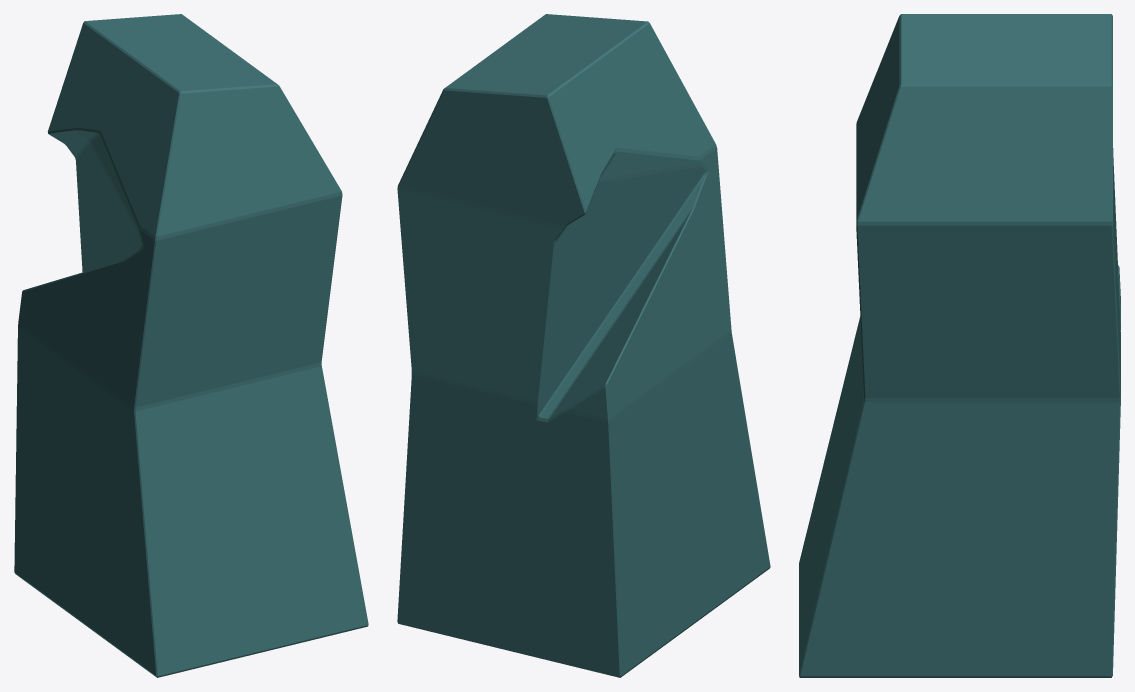
File: Swamp_Stone_1.fbx
The picture shows the model from 3 angles, left to right: view 1: azimuth 30°, elevation 25°; view 2: azimuth 150°, elevation 25°; view 3: azimuth 270°, elevation 25°; orthographic projection. The views are drawn at different scales.
Parts seen in each view (by area): view 1: Swamp Stone 1; view 2: Swamp Stone 1; view 3: Swamp Stone 1.
Boxes of the visible parts, left/top/right/bottom form: Swamp Stone 1: left=14, top=14, right=368, bottom=677; Swamp Stone 1: left=397, top=14, right=770, bottom=677; Swamp Stone 1: left=799, top=14, right=1120, bottom=677.
Size of the model in its own units: 107 by 259 by 128.
